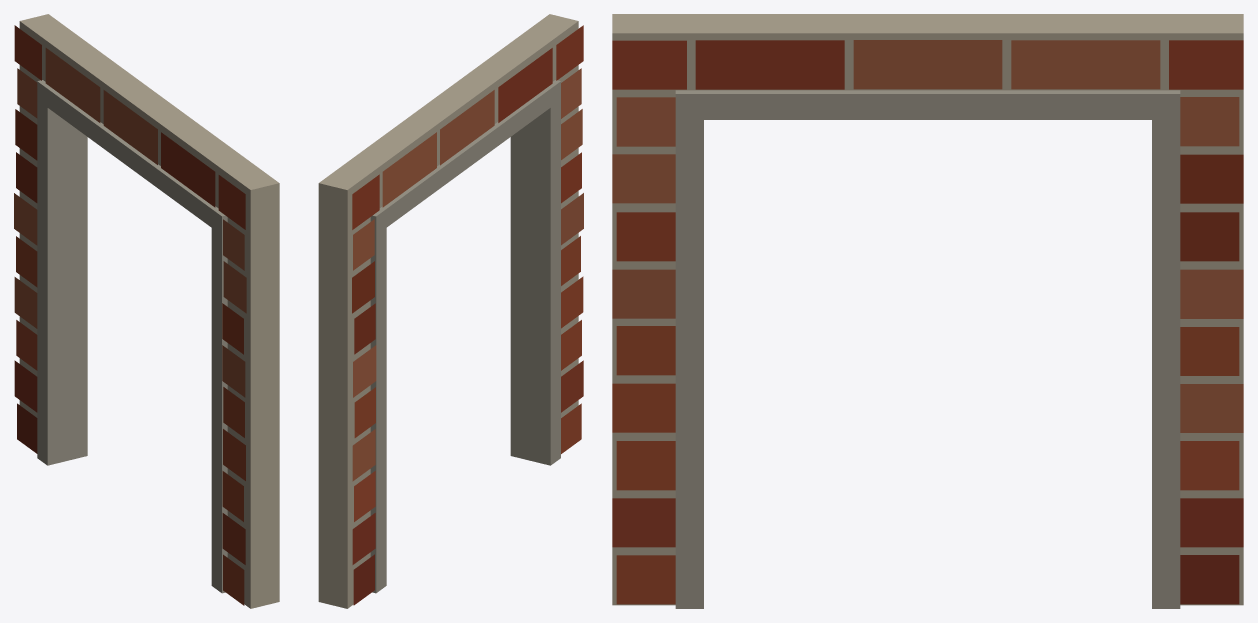
Rendered from wall-brick-doorway.glb.
3 renders of one model, left to right at view 1: azimuth 30°, elevation 25°; view 2: azimuth 150°, elevation 25°; view 3: azimuth 270°, elevation 25°, orthographic. The views are drawn at different scales.
Visible parts, largest first — view 1: wall-brick-doorway; view 2: wall-brick-doorway; view 3: wall-brick-doorway.
Boxes of the visible parts, box(x1,y1,x2,y2) form: wall-brick-doorway: box(14, 14, 279, 608); wall-brick-doorway: box(318, 14, 583, 608); wall-brick-doorway: box(612, 14, 1243, 608).
Bounding box in the file's own units: 0.1 × 1 × 1.
